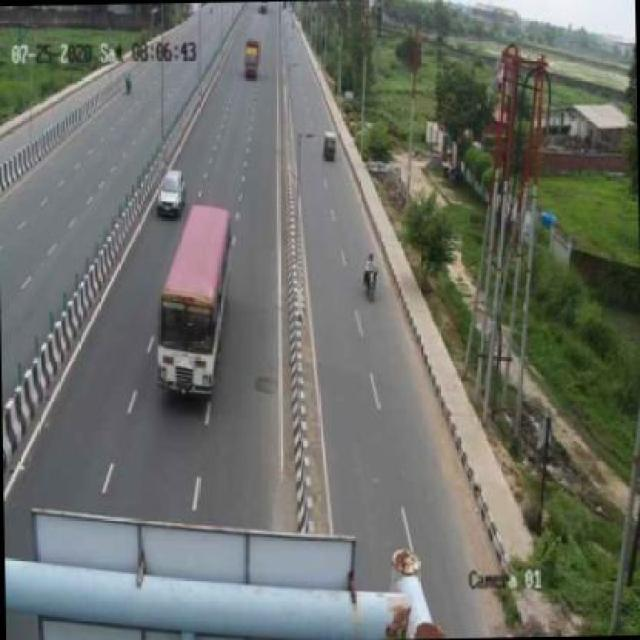car: (150, 165, 188, 217), (320, 125, 342, 169)
